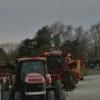Tractor: (9, 47, 70, 100)
